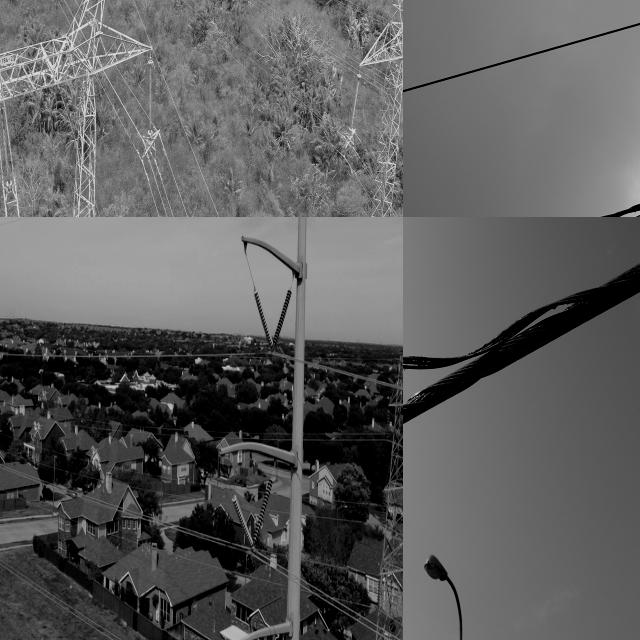杆塔: (0, 0, 171, 217), (325, 0, 403, 217), (370, 337, 403, 640)
正常绝缘子: (346, 65, 364, 169), (251, 478, 274, 548), (230, 493, 256, 550), (270, 288, 293, 351), (253, 286, 275, 350), (0, 104, 12, 187), (148, 59, 154, 136), (386, 409, 392, 442), (381, 494, 386, 524), (377, 580, 381, 610)
电缆破损: (403, 266, 607, 456), (403, 138, 640, 217)
